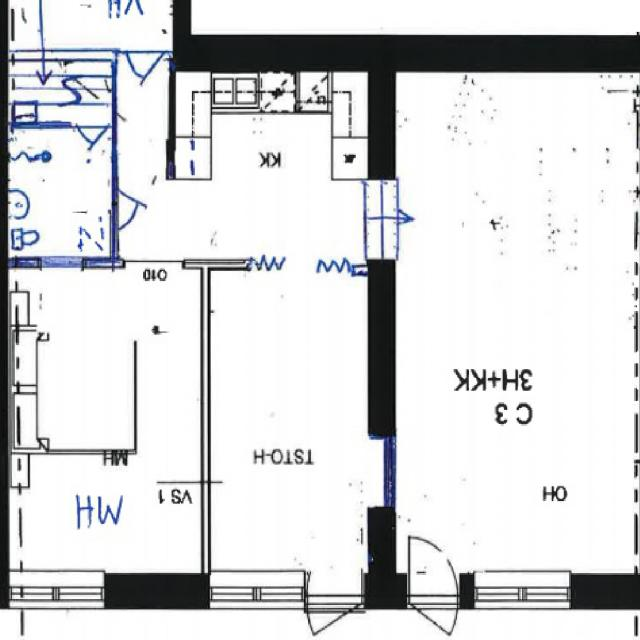door: (409, 542, 458, 609), (127, 49, 164, 100), (112, 188, 156, 228), (75, 121, 109, 166)
